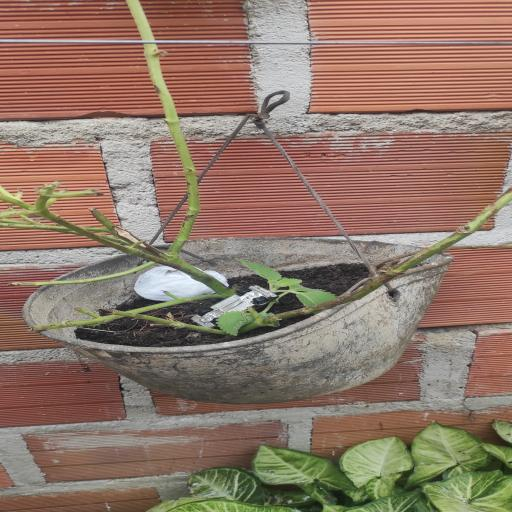Carrito: (191, 285, 277, 328)
